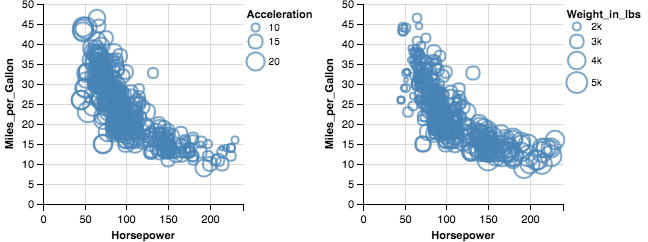

What the dashboard file says about the page in this screenshot:
{"tool":"tableau","page":{"name":"Dashboard 1","canvas":[600,350],"ordinal":0},"visuals":[{"type":"worksheet","title":"Sheet 1","mark":"Bar","rows":["Gender"],"cols":["Number"],"box":[0,0,440,147]},{"type":"legend","title":"Sheet 1","param":"[federated.0nu8bq403tzb9z1fh35ge1srv0x0].[none:Gender:nk]","box":[440,0,160,70]},{"type":"legend","title":"Sheet 2","param":"[federated.0nu8bq403tzb9z1fh35ge1srv0x0].[Goal of Evening (group)]","box":[440,70,160,66]},{"type":"worksheet","title":"Sheet 2","mark":"Automatic","rows":["Goal of Evening "],"cols":["Number 2"],"box":[0,147,440,203]}]}

Visuals, with their boxes on the page's 600x350 design canvas (x1, y1, x2, y2). These are canvas units, not pixel positions in the 648x242 screenshot, which may show the page scaled, cropped or inside an application window:
"Sheet 1" worksheet (Bar marks): [left=0, top=0, right=440, bottom=147]
"Sheet 1" legend: [left=440, top=0, right=600, bottom=70]
"Sheet 2" legend: [left=440, top=70, right=600, bottom=136]
"Sheet 2" worksheet: [left=0, top=147, right=440, bottom=350]
